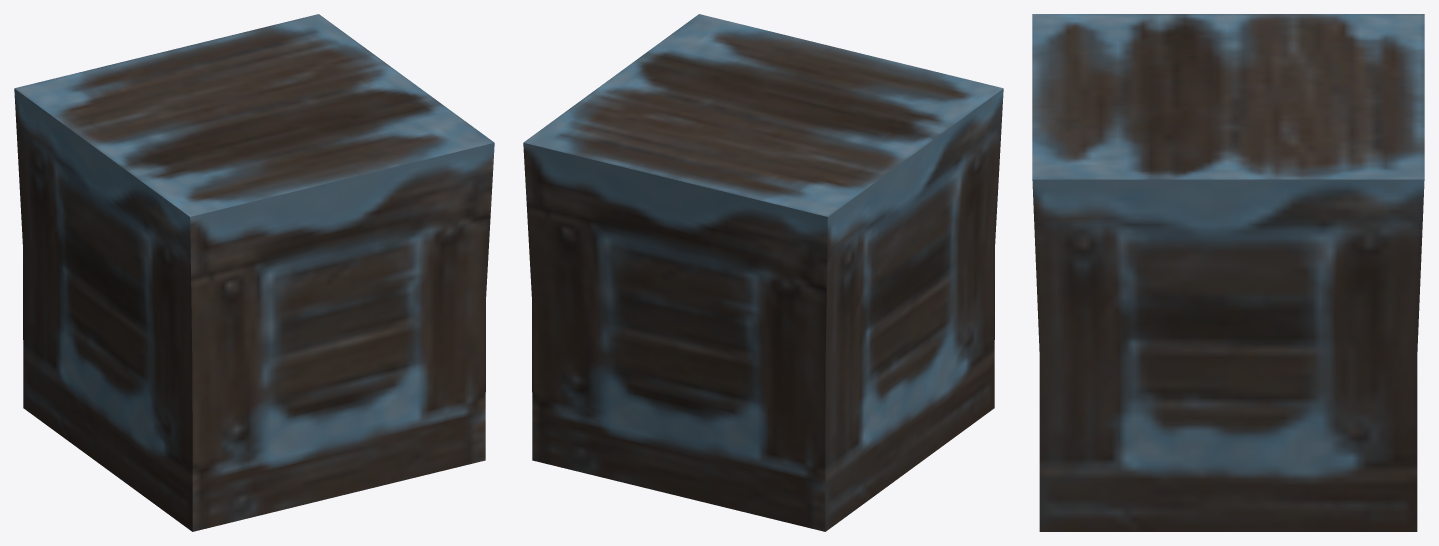
Rendered from yw_bingyuan_muxiang_001.FBX.
The picture shows the model from 3 angles, left to right: view 1: azimuth 30°, elevation 25°; view 2: azimuth 150°, elevation 25°; view 3: azimuth 270°, elevation 25°; orthographic projection. The views are drawn at different scales.
Visible parts, largest first — view 1: yw_bingyuan_muxiang_001; view 2: yw_bingyuan_muxiang_001; view 3: yw_bingyuan_muxiang_001.
Part boxes in pixels (x1,y1,x2,y2): yw_bingyuan_muxiang_001: (14,14,494,531); yw_bingyuan_muxiang_001: (523,14,1003,531); yw_bingyuan_muxiang_001: (1032,14,1424,531).
Size of the model in its own units: 3.65 by 3.65 by 3.65.
